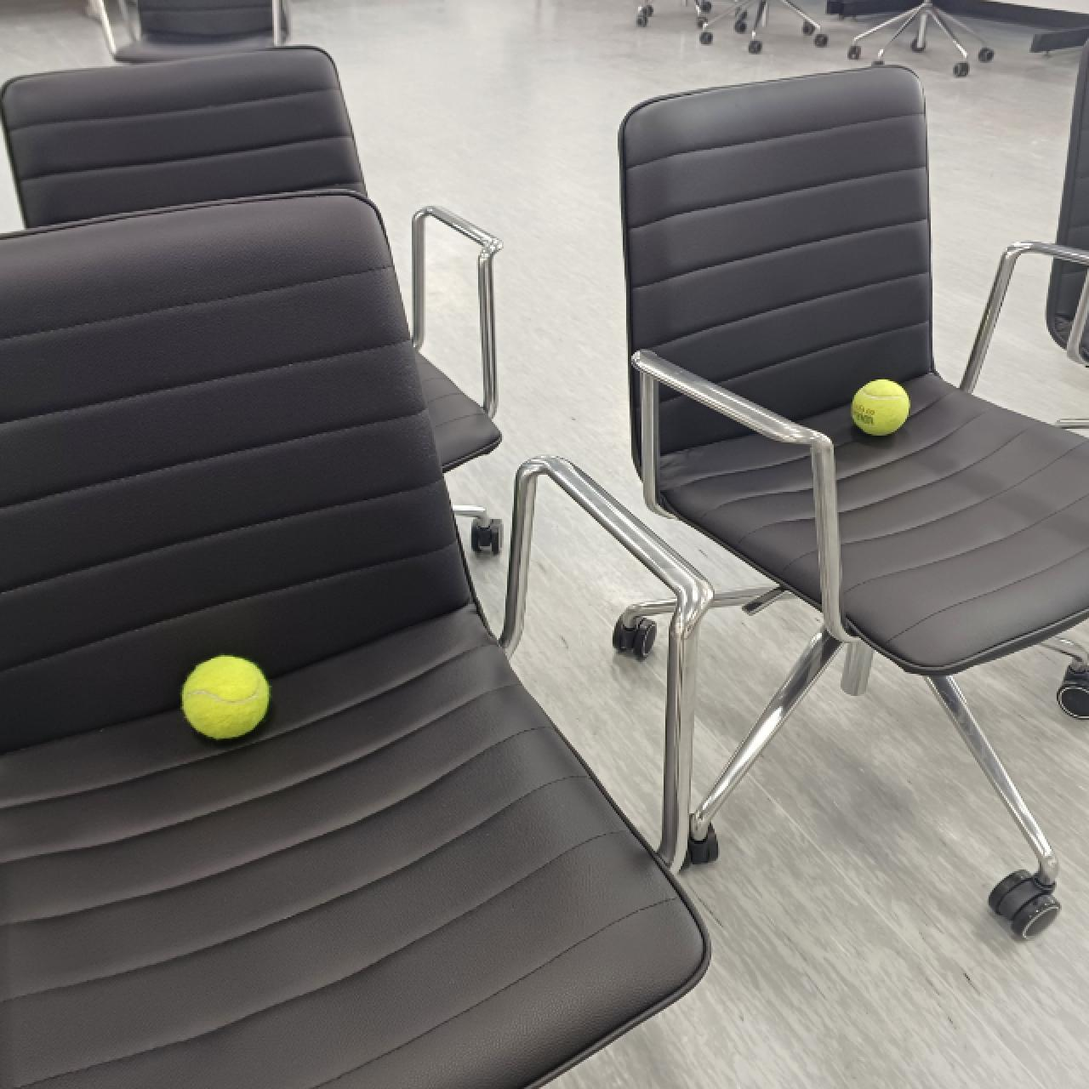tennis-ball: (183, 654, 271, 739), (849, 376, 909, 438)
